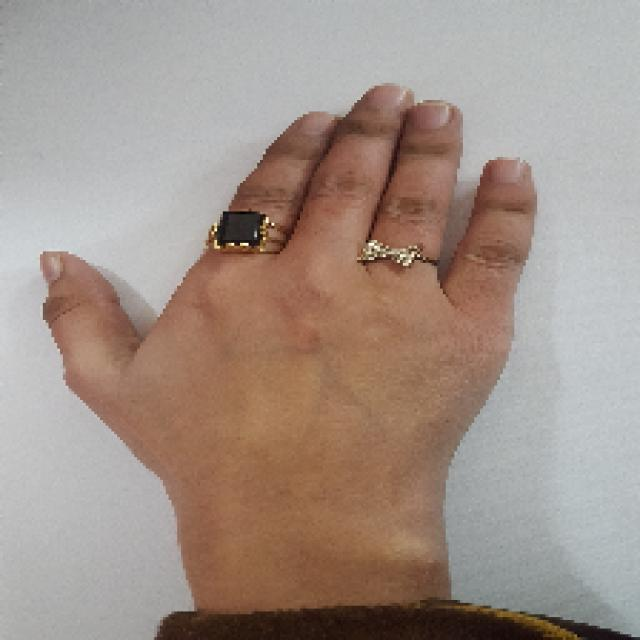Nail: (414, 100, 451, 129), (488, 158, 522, 183), (374, 84, 407, 109), (41, 251, 64, 282), (301, 111, 332, 134)
